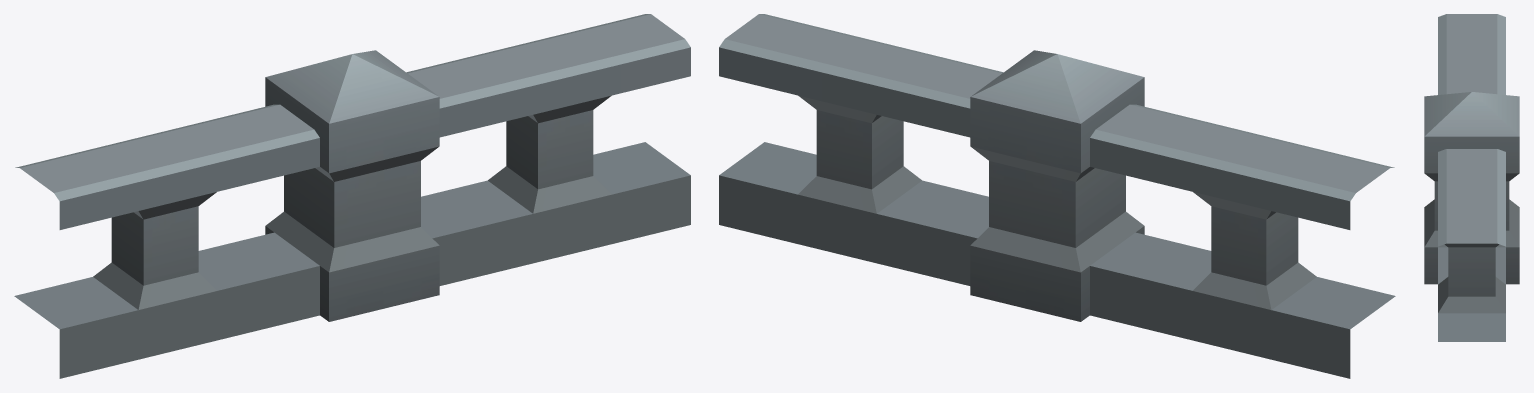
File: barrier_column.gltf.glb
3 renders of one model, left to right at view 1: azimuth 30°, elevation 25°; view 2: azimuth 150°, elevation 25°; view 3: azimuth 270°, elevation 25°, orthographic. The views are drawn at different scales.
Parts seen in each view (by area): view 1: barrier_column; view 2: barrier_column; view 3: barrier_column.
Part boxes in pixels (x1=…): barrier_column: x1=14, y1=14, x2=690, y2=378; barrier_column: x1=719, y1=14, x2=1395, y2=378; barrier_column: x1=1424, y1=14, x2=1519, y2=341.
Bounding box in the file's own units: 4 × 1.4 × 0.6997.
Materials: 1 (1 with a texture image).
